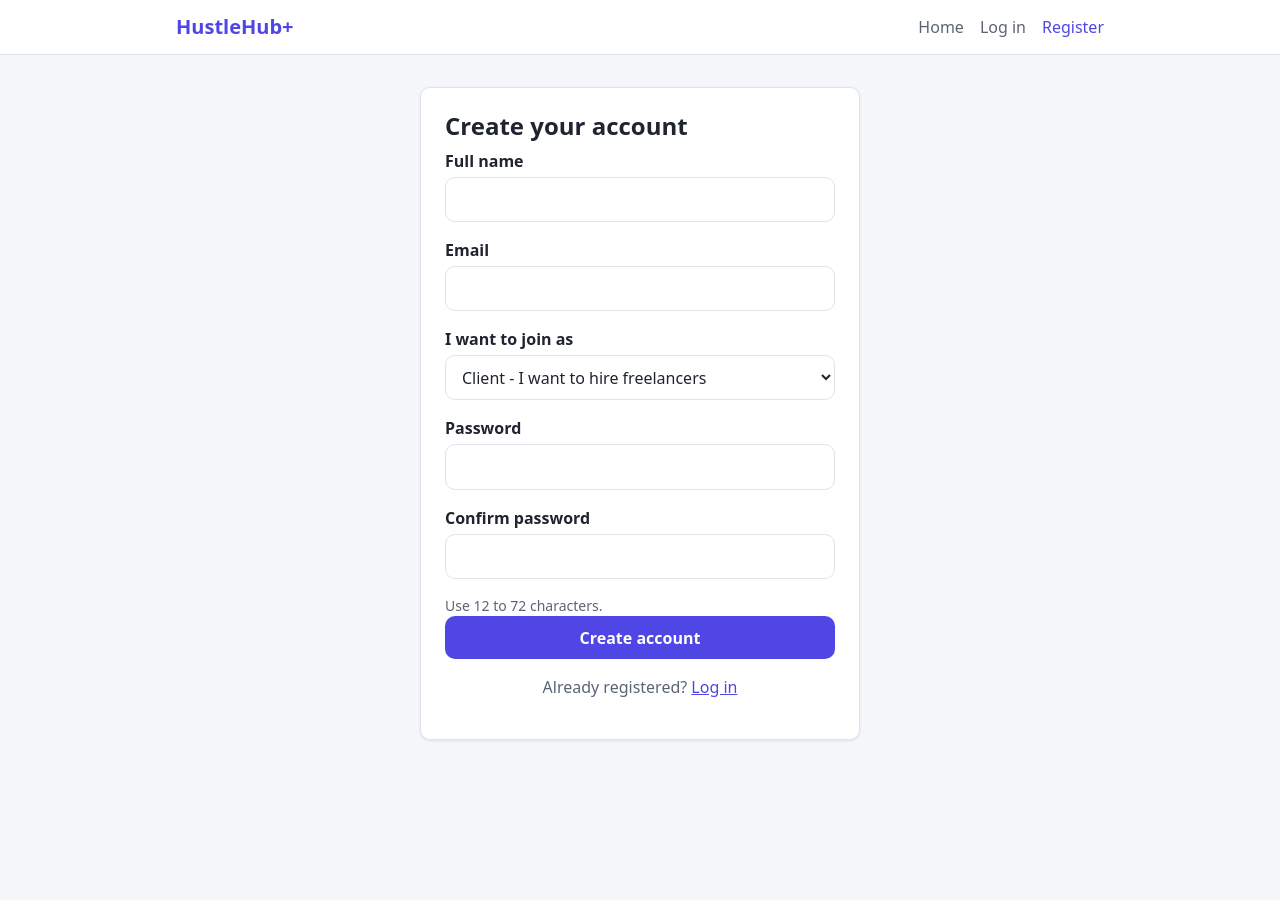
it: RegisterPage › registers with the chosen role and sends the user to the login page
Type "Thandi Nkosi" into the field labelled "Full name".
click(640, 199); type("Thandi Nkosi")  # box [445, 177, 835, 222]
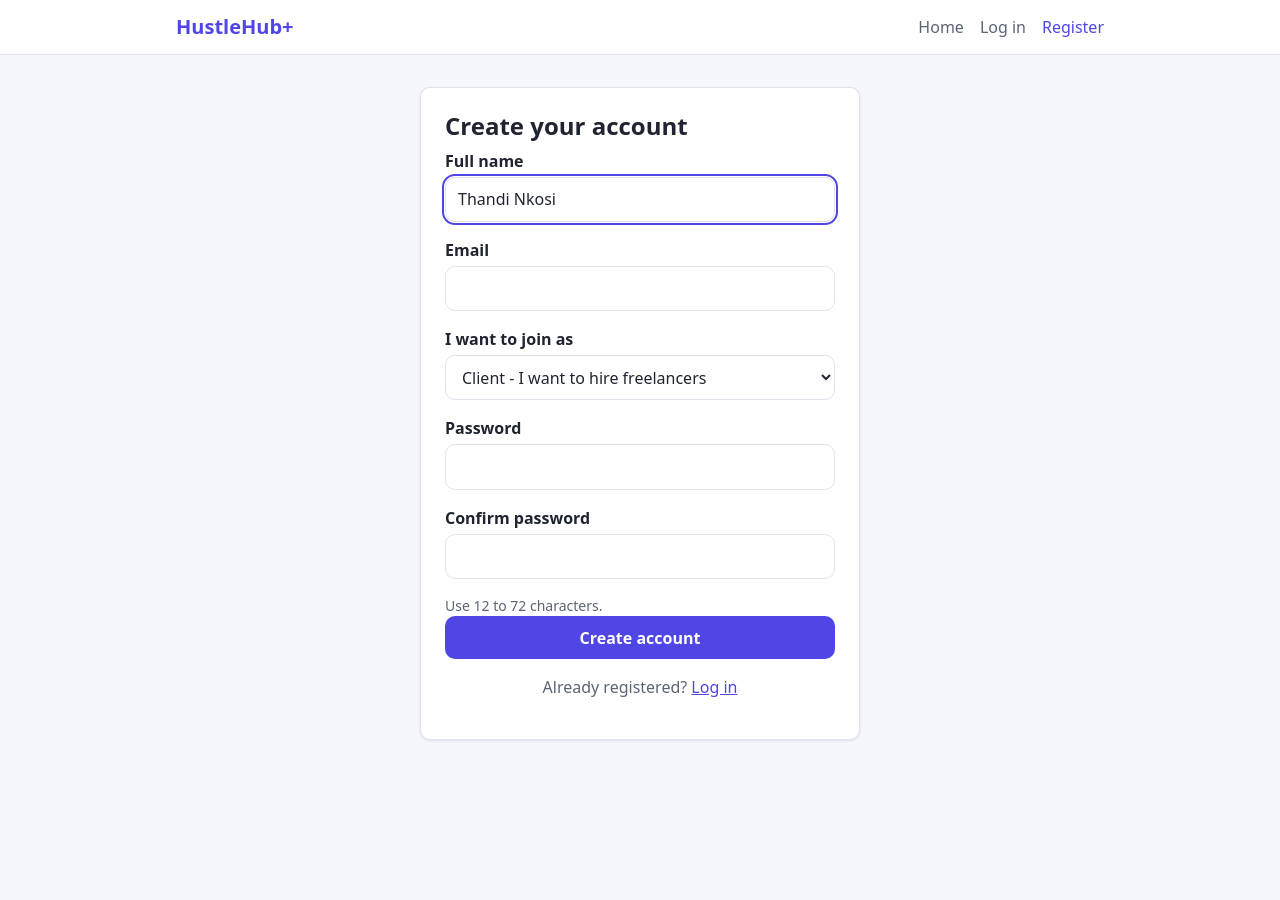
Type "thandi@example.com" into the field labelled "Email".
click(640, 289); type("thandi@example.com")  # box [445, 266, 835, 311]
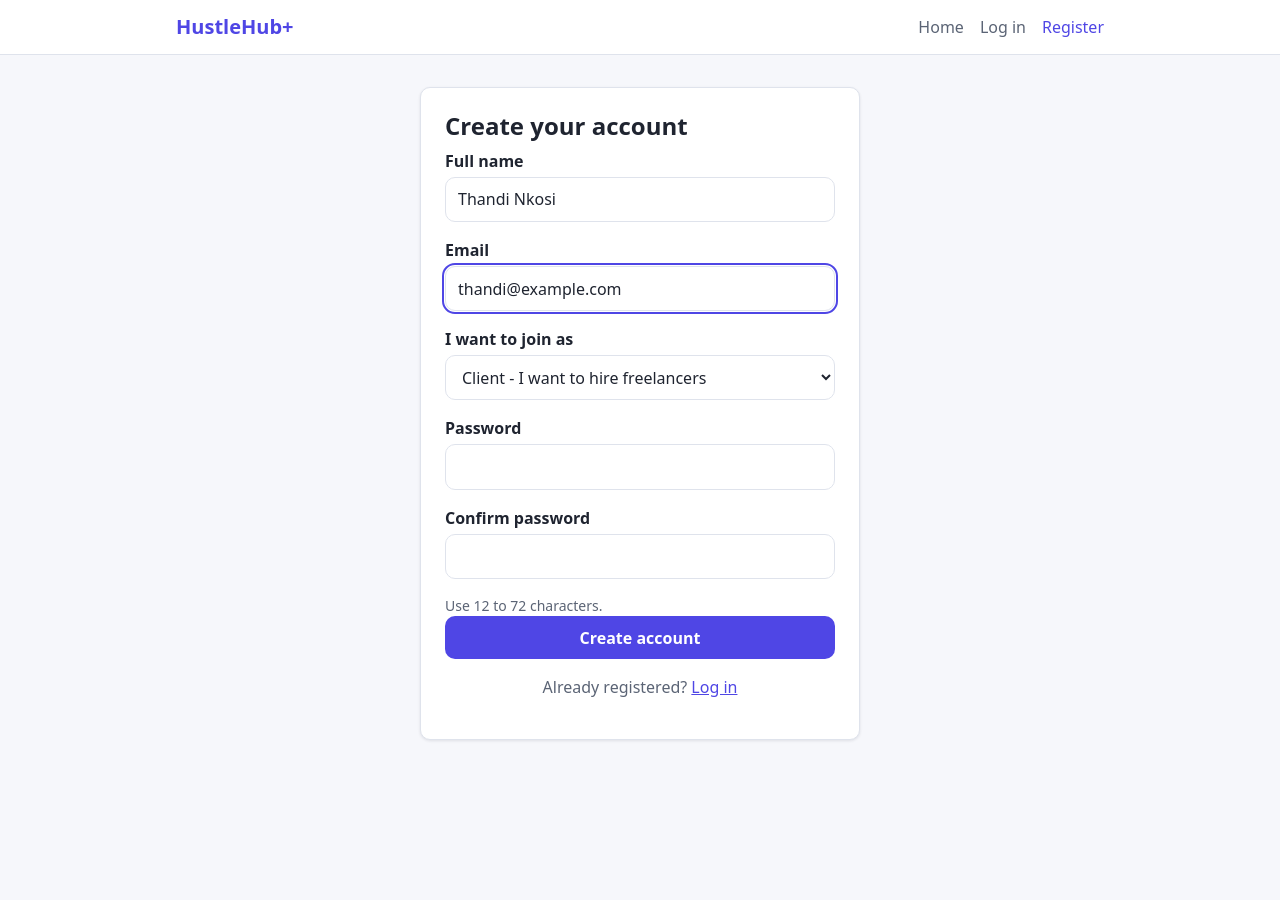
Type "Passw0rd!123" into the password field labelled "Password".
click(640, 467); type("Passw0rd!123")  # box [445, 444, 835, 490]
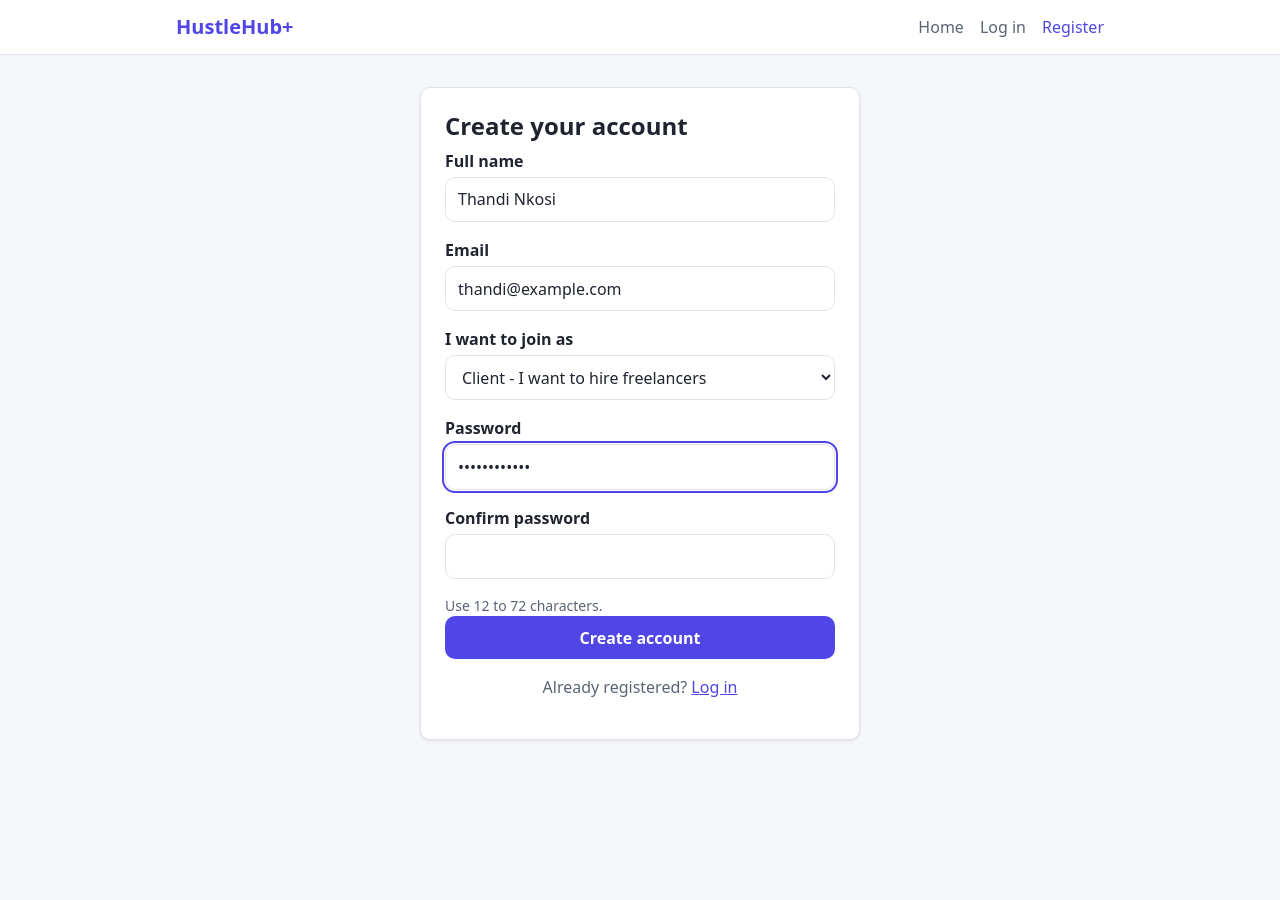
Type "Passw0rd!123" into the password field labelled "Confirm password".
click(640, 556); type("Passw0rd!123")  # box [445, 534, 835, 579]
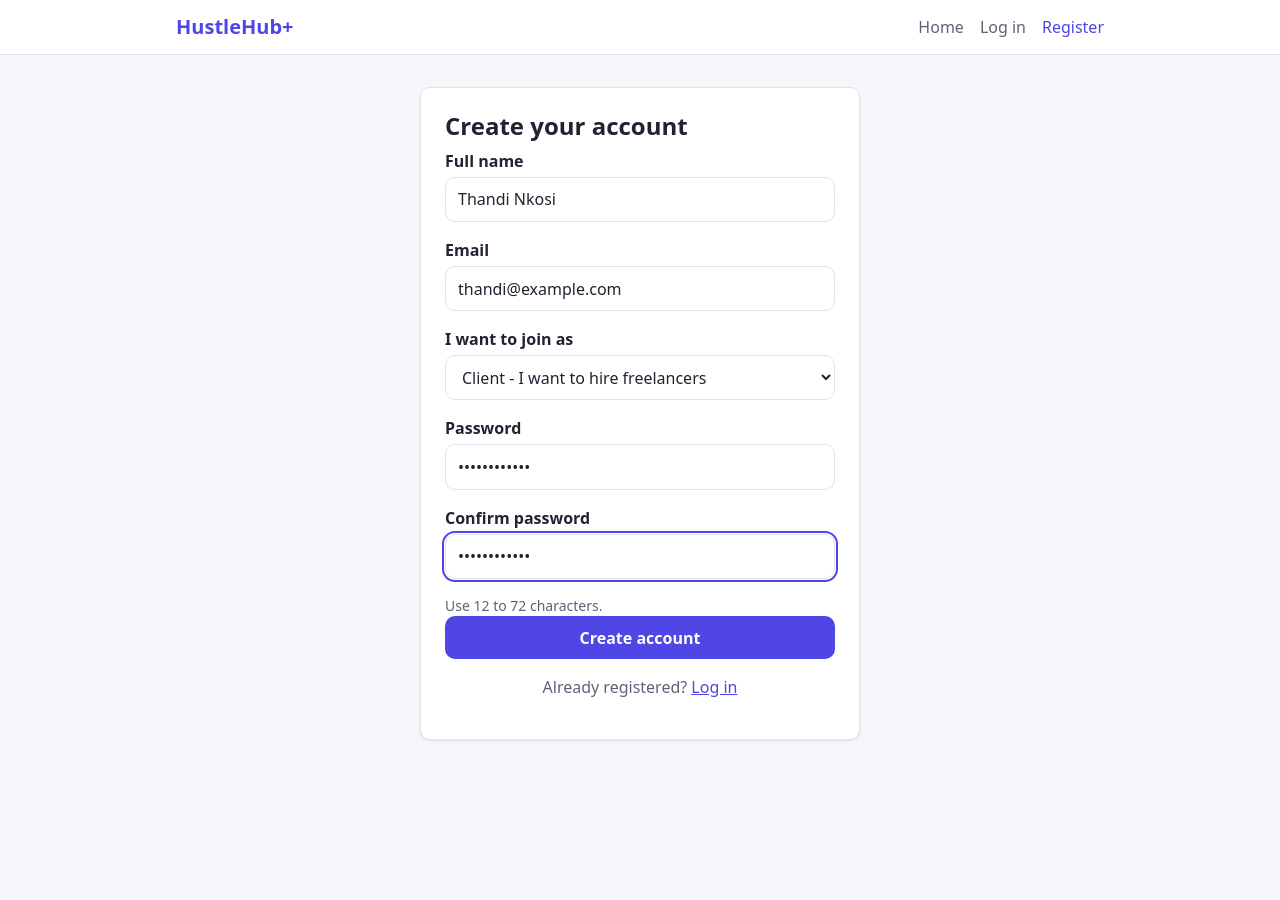
Select "Freelancer - I want to offer my services" in the dropdown labelled "I want to join as" at (640,378), box [445, 355, 835, 400]
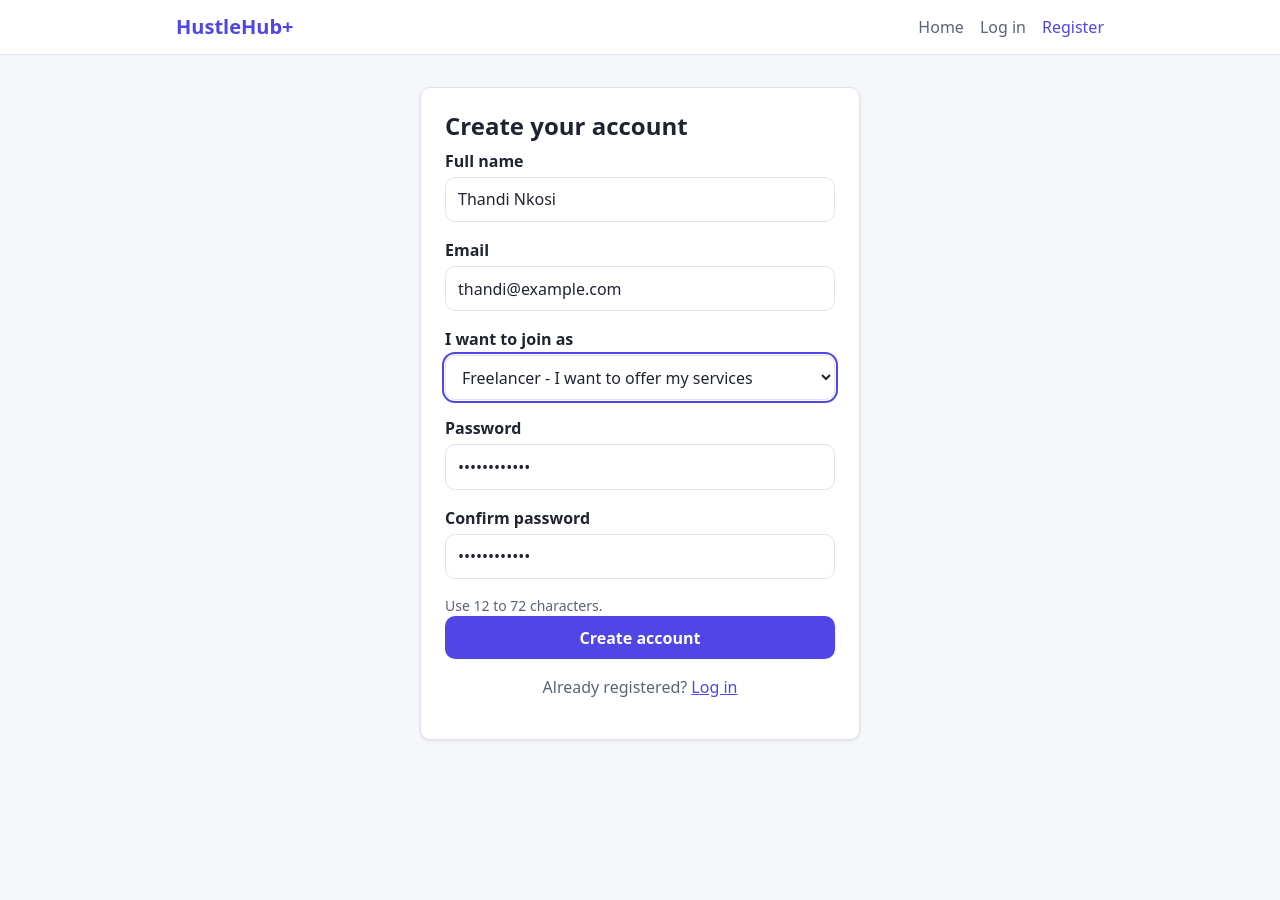
Click the button "Create account".
click(640, 638)  # box [445, 616, 835, 659]
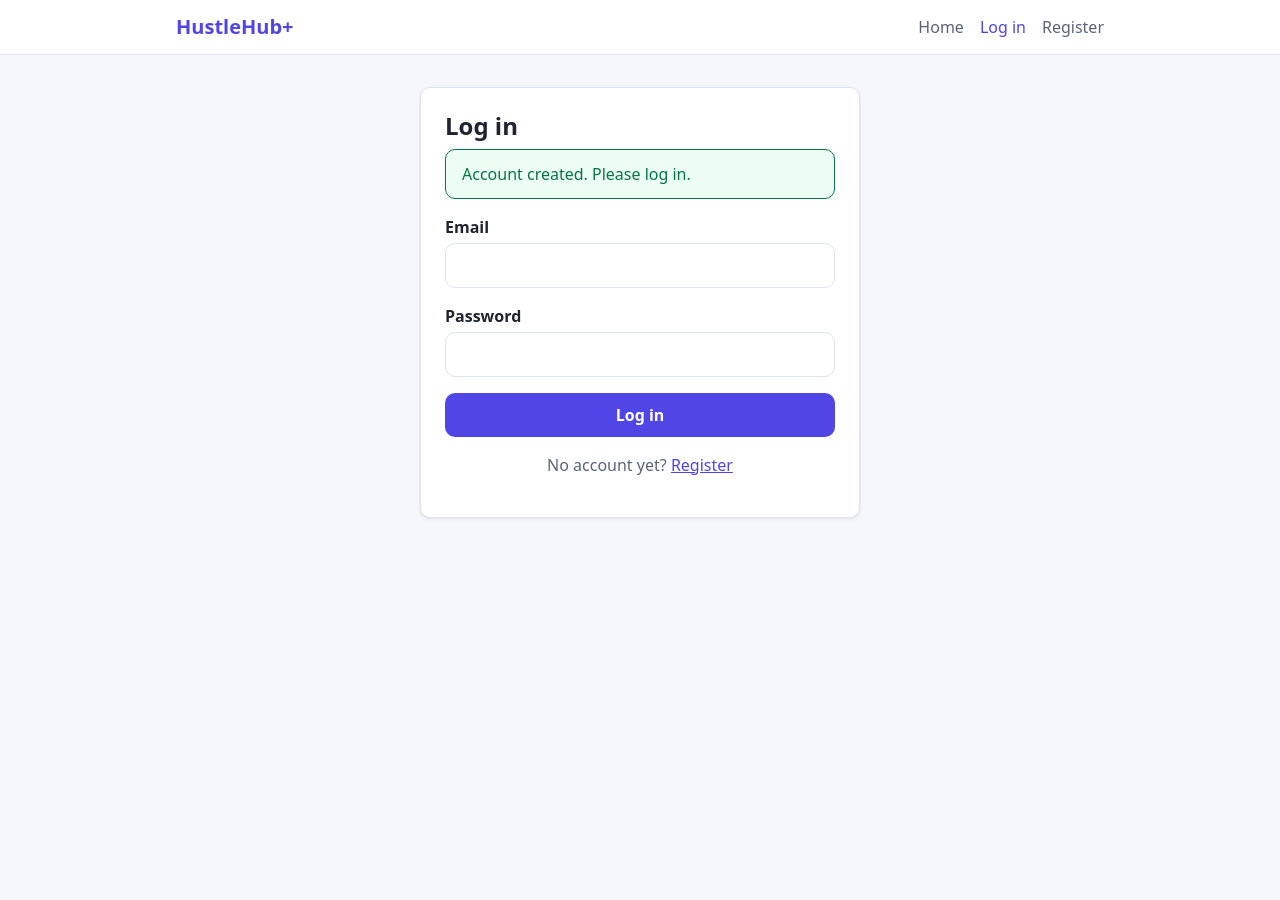
Check: the heading "Log in" is shown, box [445, 109, 518, 142]
Check: the message shows "Account created", box [462, 163, 691, 185]
